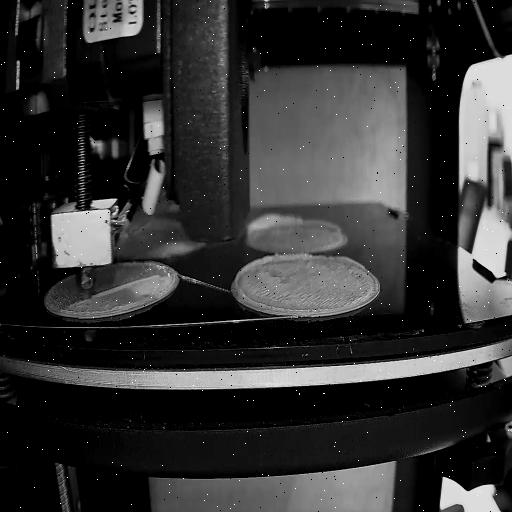over_extrusion: (234, 252, 316, 314), (90, 272, 160, 304), (244, 212, 302, 242), (335, 254, 366, 271), (306, 220, 340, 234)
